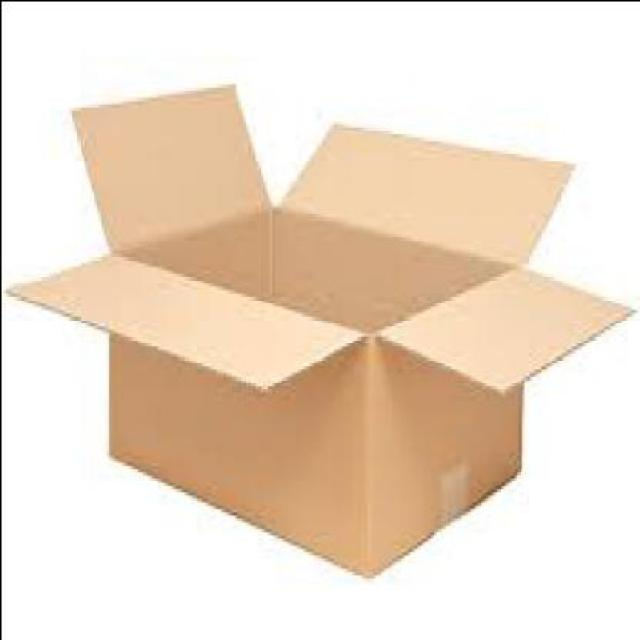CARDBOARD: (1, 78, 632, 571)
